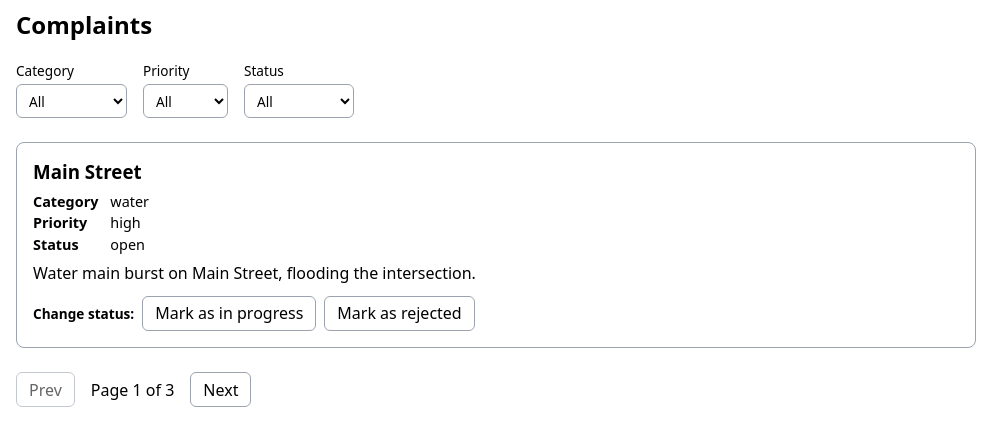
Test: DashboardPage › changing a filter re-fetches with the right query params and resets to page 1
Check: the text "Page 1 of 3" is shown, box 91,379 -> 174,401
Click the button "Next" at (221,390), box 190,372 -> 251,407
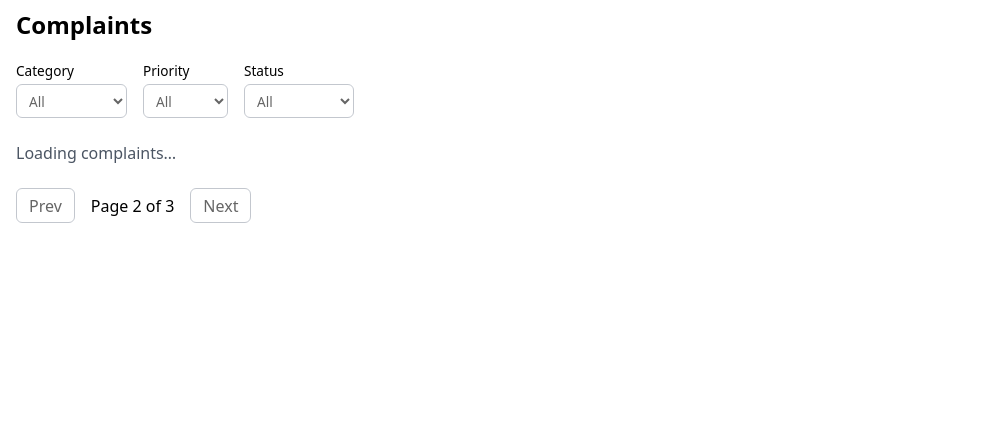
Check: the text "Page 2 of 3" is shown, box 91,195 -> 174,217
Select "roads" in the dropdown labelled "Category" at (72,101), box 16,84 -> 127,118
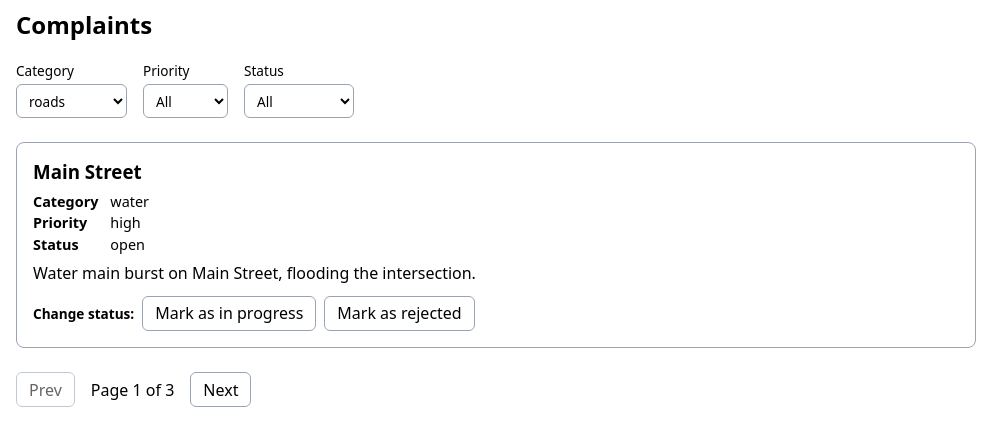
Check: the text "Page 1 of 3" is shown, box 91,379 -> 174,401
